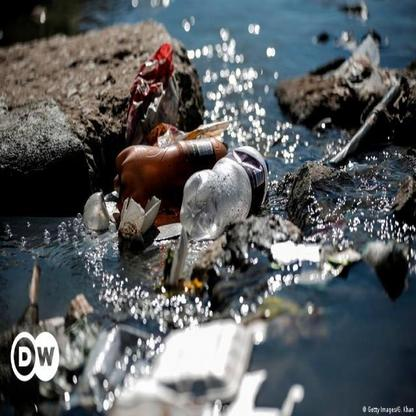plastic bottle: (180, 145, 270, 235), (115, 141, 232, 196)
